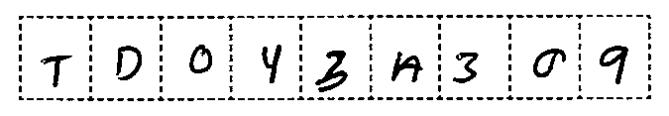0: (528, 41, 570, 86), (184, 40, 217, 82)
3: (312, 46, 352, 95), (445, 47, 484, 88)
4: (256, 41, 288, 86)
9: (592, 38, 633, 90)
A: (386, 47, 426, 87)
D: (110, 39, 146, 87)
T: (36, 50, 75, 93)
